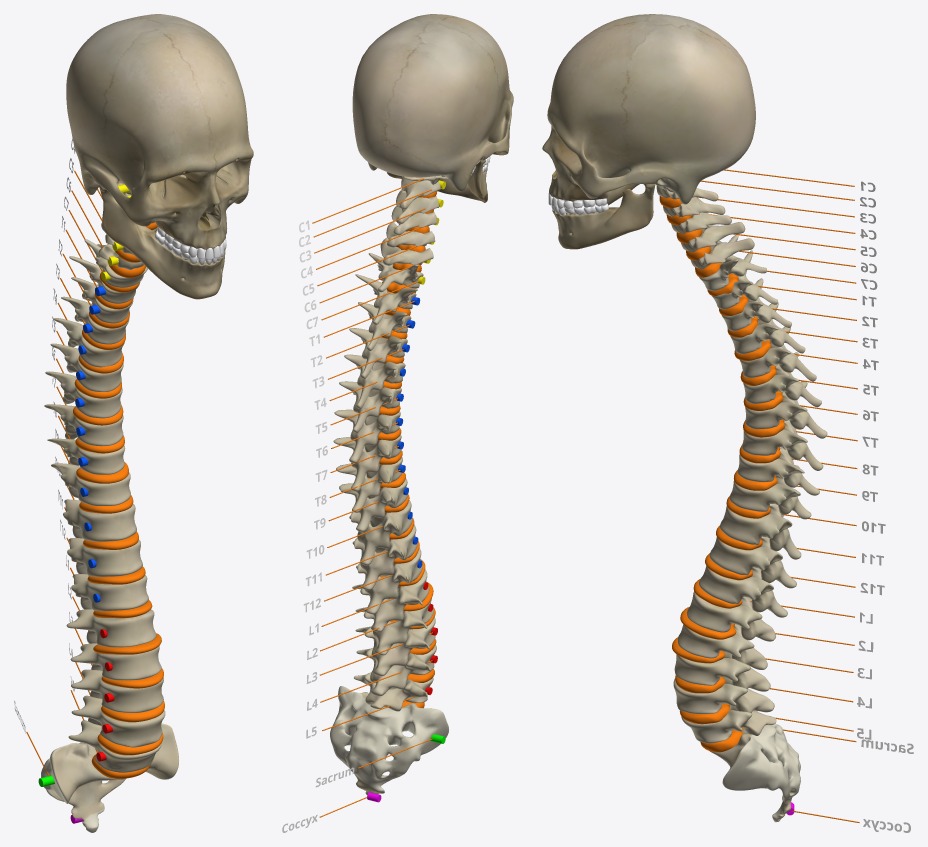
Rendered from the_human_spinal_column.glb.
3 renders of one model, left to right at view 1: azimuth 30°, elevation 25°; view 2: azimuth 150°, elevation 25°; view 3: azimuth 270°, elevation 25°, orthographic. The views are drawn at different scales.
Visible parts, largest first — view 1: Male_Skeletal_Skull_Geo_skull bones_0, Male_Skeletal_Intervertabral_Discs_Geo_discs_0, Male_Skeletal_Sacrum_Geo_bones sacrum_0, Male_Skeletal_Mandible_Geo_jawbones_0, Male_Skeletal_L01_Geo_bones back_0, Male_Skeletal_T10_Geo_bones back_0, Male_Skeletal_L03_Geo_bones back_0, Male_Skeletal_L04_Geo_bones back_0, Male_Skeletal_T12_Geo_bones back_0, Male_Skeletal_T11_Geo_bones back_0, Male_Skeletal_L02_Geo_bones back_0, Male_Skeletal_T09_Geo_bones back_0 (+10 smaller); view 2: Male_Skeletal_Skull_Geo_skull bones_0, Male_Skeletal_Sacrum_Geo_bones sacrum_0, Male_Skeletal_Intervertabral_Discs_Geo_discs_0, Male_Skeletal_T10_Geo_bones back_0, Male_Skeletal_L03_Geo_bones back_0, Male_Skeletal_T11_Geo_bones back_0, Male_Skeletal_L04_Geo_bones back_0, Male_Skeletal_L01_Geo_bones back_0, Male_Skeletal_T12_Geo_bones back_0, Male_Skeletal_T06_Geo_bones back_0, Male_Skeletal_L02_Geo_bones back_0, Male_Skeletal_L05_Geo_bones back_0 (+15 smaller); view 3: Male_Skeletal_Skull_Geo_skull bones_0, Male_Skeletal_Intervertabral_Discs_Geo_discs_0, Male_Skeletal_Sacrum_Geo_bones sacrum_0, Male_Skeletal_Mandible_Geo_jawbones_0, Male_Skeletal_L01_Geo_bones back_0, Male_Skeletal_T10_Geo_bones back_0, Male_Skeletal_T11_Geo_bones back_0, Male_Skeletal_T12_Geo_bones back_0, Male_Skeletal_L04_Geo_bones back_0, Male_Skeletal_L03_Geo_bones back_0, Male_Skeletal_L02_Geo_bones back_0, Male_Skeletal_T09_Geo_bones back_0 (+14 smaller).
Boxes of the visible parts, left/top/right/bottom form: Male_Skeletal_Skull_Geo_skull bones_0: left=66, top=14, right=253, bottom=249; Male_Skeletal_Intervertabral_Discs_Geo_discs_0: left=73, top=222, right=164, bottom=778; Male_Skeletal_Sacrum_Geo_bones sacrum_0: left=41, top=723, right=178, bottom=832; Male_Skeletal_Mandible_Geo_jawbones_0: left=99, top=185, right=225, bottom=299; Male_Skeletal_L01_Geo_bones back_0: left=66, top=609, right=156, bottom=647; Male_Skeletal_T10_Geo_bones back_0: left=63, top=499, right=136, bottom=541; Male_Skeletal_L03_Geo_bones back_0: left=71, top=669, right=163, bottom=712; Male_Skeletal_L04_Geo_bones back_0: left=71, top=695, right=165, bottom=747; Male_Skeletal_T12_Geo_bones back_0: left=71, top=574, right=148, bottom=611; Male_Skeletal_T11_Geo_bones back_0: left=67, top=538, right=142, bottom=576; Male_Skeletal_L02_Geo_bones back_0: left=70, top=643, right=161, bottom=680; Male_Skeletal_T09_Geo_bones back_0: left=51, top=463, right=130, bottom=505; Male_Skeletal_Skull_Geo_skull bones_0: left=352, top=14, right=513, bottom=191; Male_Skeletal_Sacrum_Geo_bones sacrum_0: left=330, top=686, right=448, bottom=794; Male_Skeletal_Intervertabral_Discs_Geo_discs_0: left=368, top=191, right=437, bottom=708; Male_Skeletal_T10_Geo_bones back_0: left=349, top=500, right=412, bottom=565; Male_Skeletal_L03_Geo_bones back_0: left=355, top=617, right=435, bottom=676; Male_Skeletal_T11_Geo_bones back_0: left=352, top=524, right=417, bottom=590; Male_Skeletal_L04_Geo_bones back_0: left=356, top=645, right=436, bottom=696; Male_Skeletal_L01_Geo_bones back_0: left=352, top=569, right=429, bottom=631; Male_Skeletal_T12_Geo_bones back_0: left=356, top=548, right=422, bottom=614; Male_Skeletal_T06_Geo_bones back_0: left=334, top=409, right=400, bottom=463; Male_Skeletal_L02_Geo_bones back_0: left=355, top=598, right=433, bottom=655; Male_Skeletal_L05_Geo_bones back_0: left=354, top=672, right=433, bottom=711; Male_Skeletal_Skull_Geo_skull bones_0: left=542, top=14, right=755, bottom=204; Male_Skeletal_Intervertabral_Discs_Geo_discs_0: left=659, top=196, right=784, bottom=752; Male_Skeletal_Sacrum_Geo_bones sacrum_0: left=709, top=710, right=800, bottom=822; Male_Skeletal_Mandible_Geo_jawbones_0: left=552, top=184, right=655, bottom=249; Male_Skeletal_L01_Geo_bones back_0: left=687, top=591, right=775, bottom=641; Male_Skeletal_T10_Geo_bones back_0: left=720, top=504, right=801, bottom=559; Male_Skeletal_T11_Geo_bones back_0: left=709, top=536, right=796, bottom=588; Male_Skeletal_T12_Geo_bones back_0: left=699, top=566, right=787, bottom=617; Male_Skeletal_L04_Geo_bones back_0: left=673, top=677, right=774, bottom=713; Male_Skeletal_L03_Geo_bones back_0: left=674, top=652, right=770, bottom=691; Male_Skeletal_L02_Geo_bones back_0: left=678, top=624, right=767, bottom=669; Male_Skeletal_T09_Geo_bones back_0: left=729, top=465, right=811, bottom=519.
Bounding box in the file's own units: 13.87 × 81.66 × 34.39.
6 materials, 6 textured.
